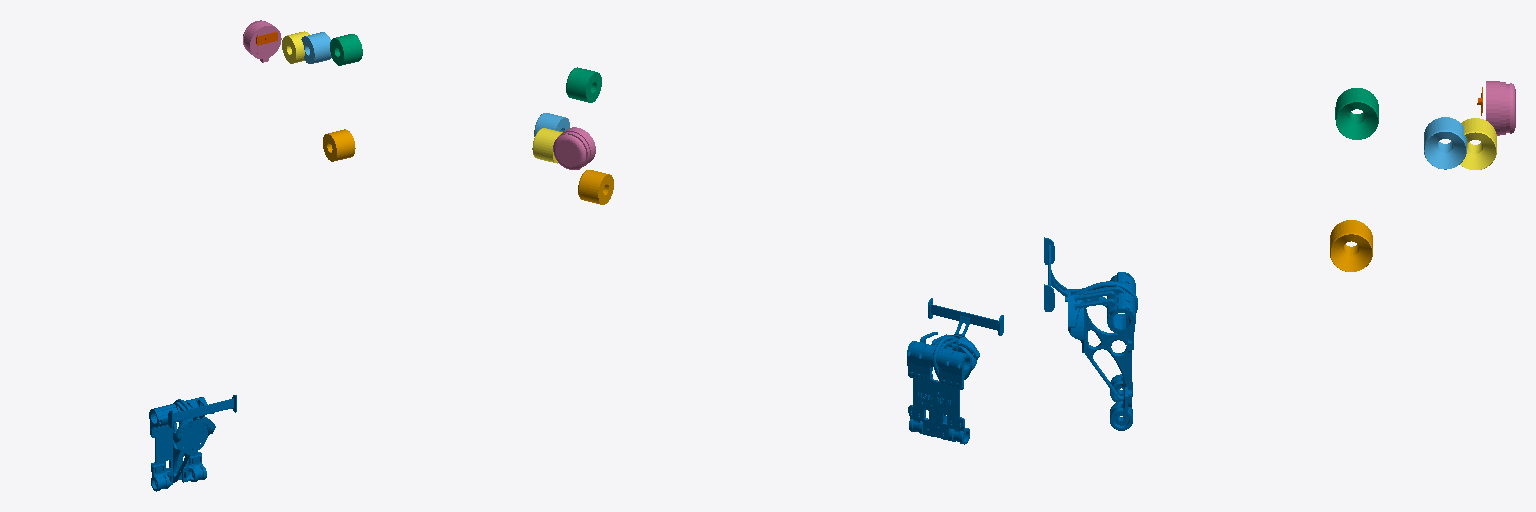
The robot description file, URDF, robot "Robot":
<?xml version="1.0" ?>
<robot name="Robot">
  <!--Generated by RobotCAD, a ROS Workbench for FreeCAD (https://github.com/drfenixion/freecad.robotcad)-->
  <link name="wheel_fl">
    <visual>
      <!--60X45 wheel002/Part__Feature001.-->
      <origin rpy="-3.141592653589793 -1.5707963267948963 0" xyz="-0.004 -0.182 -0.012"/>
      <geometry>
        <mesh filename="package://sucker/meshes/wheel_fl.STL"/>
      </geometry>
    </visual>
    <collision>
      <!--bound_obj__wheel_fl001__col__0X45_wheel__BoundCylinder/col__0X45_wheel__BoundCylinder.-->
      <origin rpy="0 0 -3.141592653589793" xyz="0.0 0.0 0.0225"/>
      <geometry>
        <cylinder length="0.045" radius="0.031"/>
      </geometry>
    </collision>
    <inertial>
      <mass value="0.10137086152150322"/>
      <origin rpy="-3.141592653589793 -1.5707963267948963 0" xyz="0.0 0.0 0.0197725"/>
      <inertia ixx="5.419874056564316e-05" ixy="-4.757650910246266e-16" ixz="4.612832764325445e-16" iyy="4.089318376860958e-05" iyz="-2.2117179469207724e-19" izz="4.089318376860995e-05"/>
    </inertial>
  </link>
  <link name="wheel_rr">
    <visual>
      <!--mirror_Wheel_Sucker/_0X45_wheel001.Part__Feature006.-->
      <origin rpy="1.5707963267948961 -1.5707963267948957 0" xyz="-0.03 0.004 0.128"/>
      <geometry>
        <mesh filename="package://sucker/meshes/wheel_rr.STL"/>
      </geometry>
    </visual>
    <collision>
      <!--bound_obj__wheel_rr001__col_mirror_Wheel_Sucker__BoundCylinder/col_mirror_Wheel_Sucker__BoundCylinder.-->
      <origin rpy="0 0 1.5707963267948963" xyz="0.0 0.0 -0.0225"/>
      <geometry>
        <cylinder length="0.045" radius="0.031"/>
      </geometry>
    </collision>
    <inertial>
      <mass value="0.1013708615215032"/>
      <origin rpy="1.5707963267948961 -1.5707963267948957 0" xyz="0.0 0.0 -0.0197725"/>
      <inertia ixx="5.419874056564317e-05" ixy="-4.757807767681403e-16" ixz="-4.612891688394715e-16" iyy="4.0893183768609606e-05" iyz="2.1150030079300045e-19" izz="4.089318376860996e-05"/>
    </inertial>
  </link>
  <link name="wheel_fr">
    <visual>
      <!--mirror_Wheel_Sucker001/_0X45_wheel002.Part__Feature011.-->
      <origin rpy="0 1.5707963267948963 0" xyz="-0.004 0.03 -0.128"/>
      <geometry>
        <mesh filename="package://sucker/meshes/wheel_fr.STL"/>
      </geometry>
    </visual>
    <collision>
      <!--bound_obj__wheel_fr001__col_mirror_Wheel_Sucker001__BoundCylinder/col_mirror_Wheel_Sucker001__BoundCylinder.-->
      <origin rpy="3.141592653589793 0 -3.141592653589793" xyz="0.0 0.0 0.0225"/>
      <geometry>
        <cylinder length="0.045" radius="0.031"/>
      </geometry>
    </collision>
    <inertial>
      <mass value="0.1013708615215032"/>
      <origin rpy="0 1.5707963267948963 0" xyz="0.0 0.0 0.0197725"/>
      <inertia ixx="5.419874056564317e-05" ixy="-4.757807767681403e-16" ixz="-4.612891688394715e-16" iyy="4.0893183768609606e-05" iyz="2.1150030079300045e-19" izz="4.089318376860996e-05"/>
    </inertial>
  </link>
  <link name="wheel_rl">
    <visual>
      <!--60X45 wheel011/Part__Feature016.-->
      <origin rpy="-3.141592653589793 -1.5707963267948963 0" xyz="-0.004 -0.03 -0.012"/>
      <geometry>
        <mesh filename="package://sucker/meshes/wheel_rl.STL"/>
      </geometry>
    </visual>
    <collision>
      <!--bound_obj__wheel_rl001__col__0X45_wheel003__BoundCylinder/col__0X45_wheel003__BoundCylinder.-->
      <origin rpy="0 0 -3.141592653589793" xyz="0.0 0.0 0.0225"/>
      <geometry>
        <cylinder length="0.045" radius="0.031"/>
      </geometry>
    </collision>
    <inertial>
      <mass value="0.1013708615215032"/>
      <origin rpy="-3.141592653589793 -1.5707963267948963 0" xyz="0.0 0.0 0.0197725"/>
      <inertia ixx="5.419874056564313e-05" ixy="-4.75772369506694e-16" ixz="4.612744819877912e-16" iyy="4.0893183768609565e-05" iyz="-2.177397254854674e-19" izz="4.089318376860993e-05"/>
    </inertial>
  </link>
  <link name="base_link">
    <visual>
      <!--Base/Fusion003.-->
      <origin rpy="0 0 0" xyz="0.0 0.0 0.0"/>
      <geometry>
        <mesh filename="package://sucker/meshes/base_link.STL"/>
      </geometry>
    </visual>
    <collision>
      <!--bound_obj__base_link__col_Pidar__BoundBox/col_Pidar__BoundBox.-->
      <origin rpy="0 0 0" xyz="0.5 0.417654 0.545581"/>
      <geometry>
        <box size="0.1580000000000001 0.23130676148971577 0.129837188733113"/>
      </geometry>
    </collision>
    <inertial>
      <mass value="0.8083600000000001"/>
      <origin rpy="0 0 0" xyz="0.500116 0.42552 0.517151"/>
      <inertia ixx="0.001486864359911436" ixy="-1.4589308519551736e-05" ixz="-2.5478097583648844e-06" iyy="0.0006762102489574196" iyz="-0.00028400129847747476" izz="0.0014875077634902243"/>
    </inertial>
  </link>
  <link name="camera">
    <visual>
      <!--Cumera001/Part__Feature037.-->
      <origin rpy="0 0 0" xyz="0.0 -0.013 -0.1055"/>
      <geometry>
        <mesh filename="package://sucker/meshes/camera.STL"/>
      </geometry>
    </visual>
    <collision>
      <!--bound_obj__camera__col_Cumera__BoundBox/col_Cumera__BoundBox.-->
      <origin rpy="0 0 0" xyz="0.0 -0.0025 0.01"/>
      <geometry>
        <box size="0.05 0.007 0.02"/>
      </geometry>
    </collision>
    <inertial>
      <mass value="0.002536261026600647"/>
      <origin rpy="0 0 0" xyz="0.0 -0.000574434 0.01"/>
      <inertia ixx="7.910553265377342e-08" ixy="1.7220902811905667e-24" ixz="1.0213057066721374e-23" iyy="5.175376561658415e-07" iyz="2.1209416445344687e-23" izz="4.501055326537734e-07"/>
    </inertial>
  </link>
  <link name="lidar">
    <visual>
      <!--Fusion003-->
      <origin rpy="-3.141592653589793 0 0" xyz="0.0 -0.065 0.059"/>
      <geometry>
        <mesh filename="package://sucker/meshes/lidar.STL"/>
      </geometry>
    </visual>
    <visual>
      <!--lidar/Part__Feature036.-->
      <origin rpy="-3.141592653589793 0 0" xyz="0.0 -0.065 0.059"/>
      <geometry>
        <mesh filename="package://sucker/meshes/lidar.STL"/>
      </geometry>
    </visual>
    <inertial>
      <mass value="0.1808563355763769"/>
      <origin rpy="-3.141592653589793 0 0" xyz="0.0 -0.00024629 -0.0192734"/>
      <inertia ixx="8.626454773911462e-05" ixy="1.0159520148895485e-20" ixz="2.9084535812218356e-20" iyy="8.446081612680957e-05" iyz="6.36775177103691e-07" izz="0.00012183428513210594"/>
    </inertial>
  </link>
  <joint name="base_link_to_camera" type="fixed">
    <parent link="base_link"/>
    <child link="camera"/>
    <origin rpy="-0.08726646259972501 0 0" xyz="0.5 0.515057 0.604778"/>
  </joint>
  <joint name="base_link_to_wheel_rl" type="continuous">
    <parent link="base_link"/>
    <child link="wheel_rl"/>
    <origin rpy="1.570796326794897 -0.6659692373790911 1.5707963267948966" xyz="0.56 0.47 0.504"/>
    <axis xyz="0 0 1"/>
  </joint>
  <joint name="base_link_to_wheel_fr" type="continuous">
    <parent link="base_link"/>
    <child link="wheel_fr"/>
    <origin rpy="1.570796326794897 0 -1.5707963267948966" xyz="0.441 0.318 0.504"/>
    <axis xyz="0 0 1"/>
  </joint>
  <joint name="base_link_to_wheel_rr" type="continuous">
    <parent link="base_link"/>
    <child link="wheel_rr"/>
    <origin rpy="1.570796326794897 -0.6659692373790911 1.5707963267948966" xyz="0.44 0.47 0.504"/>
    <axis xyz="0 0 1"/>
  </joint>
  <joint name="base_link_to_wheel_fl" type="continuous">
    <parent link="base_link"/>
    <child link="wheel_fl"/>
    <origin rpy="1.570796326794897 0 1.5707963267948966" xyz="0.559 0.318 0.504"/>
    <axis xyz="0 0 1"/>
  </joint>
  <joint name="base_link_to_lidar" type="fixed">
    <parent link="base_link"/>
    <child link="lidar"/>
    <origin rpy="-3.141592653589793 0 0" xyz="0.5 0.435 0.559"/>
  </joint>
</robot>

--- What the picture shows (computed from the rendered views, not written in the file) ---
The picture shows the robot from 3 angles, left to right: view 1: azimuth 30°, elevation 25°; view 2: azimuth 150°, elevation 25°; view 3: azimuth 270°, elevation 25°; orthographic projection.
Model Robot with 7 links and 6 joints (4 continuous, 2 fixed), rooted at base_link, posed every joint at zero.
Links seen in each view (by area): view 1: base_link, lidar, wheel_fr, wheel_fl, wheel_rr, wheel_rl; view 2: base_link, lidar, wheel_fl, wheel_fr, wheel_rl; view 3: base_link, wheel_fr, wheel_fl, wheel_rr, lidar, wheel_rl.
Link boxes in pixels (box(x1,y1,x2,y2)): base_link: box(149, 395, 236, 491); lidar: box(243, 20, 281, 62); wheel_fr: box(330, 34, 362, 65); wheel_fl: box(323, 129, 355, 161); wheel_rr: box(301, 32, 331, 63); wheel_rl: box(282, 31, 309, 63); base_link: box(907, 298, 1003, 444); lidar: box(553, 127, 595, 169); wheel_fl: box(578, 170, 613, 204); wheel_fr: box(566, 67, 601, 102); wheel_rl: box(532, 128, 562, 163); base_link: box(1044, 237, 1137, 430); wheel_fr: box(1335, 88, 1378, 139); wheel_fl: box(1330, 220, 1372, 271); wheel_rr: box(1424, 117, 1466, 169); lidar: box(1486, 81, 1515, 135); wheel_rl: box(1460, 118, 1496, 169).
Size in the robot's own frame: 0.693 by 0.6515 by 0.762 metres.
Meshes: 7 distinct files referenced, 8 mesh visuals loaded (7 binary STL).
